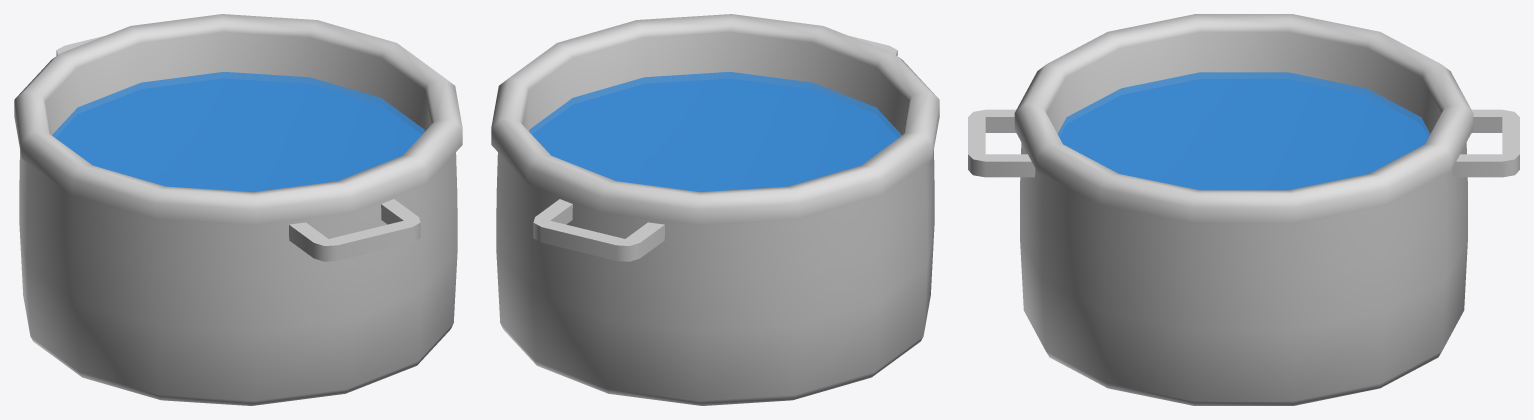
File: Pot_water.glb
The picture shows the model from 3 angles, left to right: view 1: azimuth 30°, elevation 25°; view 2: azimuth 150°, elevation 25°; view 3: azimuth 270°, elevation 25°; orthographic projection.
Visible parts, largest first — view 1: Pot_water; view 2: Pot_water; view 3: Pot_water.
Part boxes in pixels (left/top/right/bottom): Pot_water: left=14, top=14, right=462, bottom=405; Pot_water: left=491, top=14, right=939, bottom=405; Pot_water: left=968, top=14, right=1519, bottom=405.
Size of the model in its own units: 0.4186 by 0.2223 by 0.5165.
